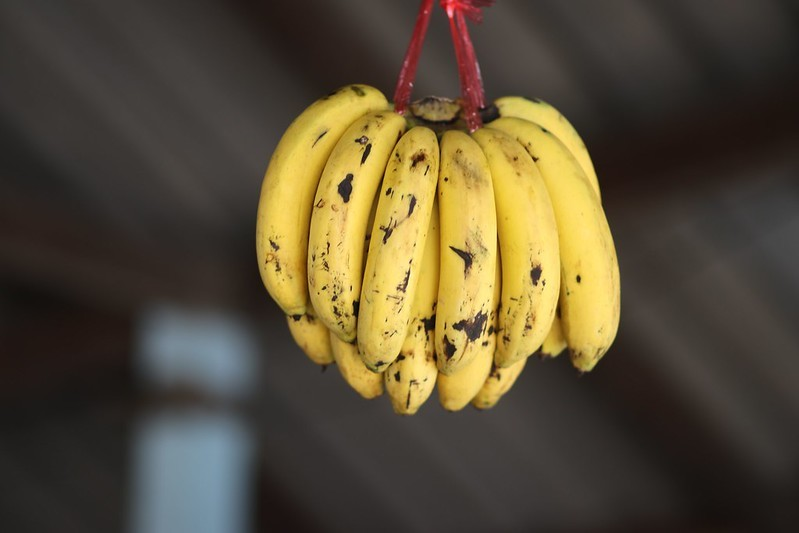banana: (269, 86, 624, 435)
